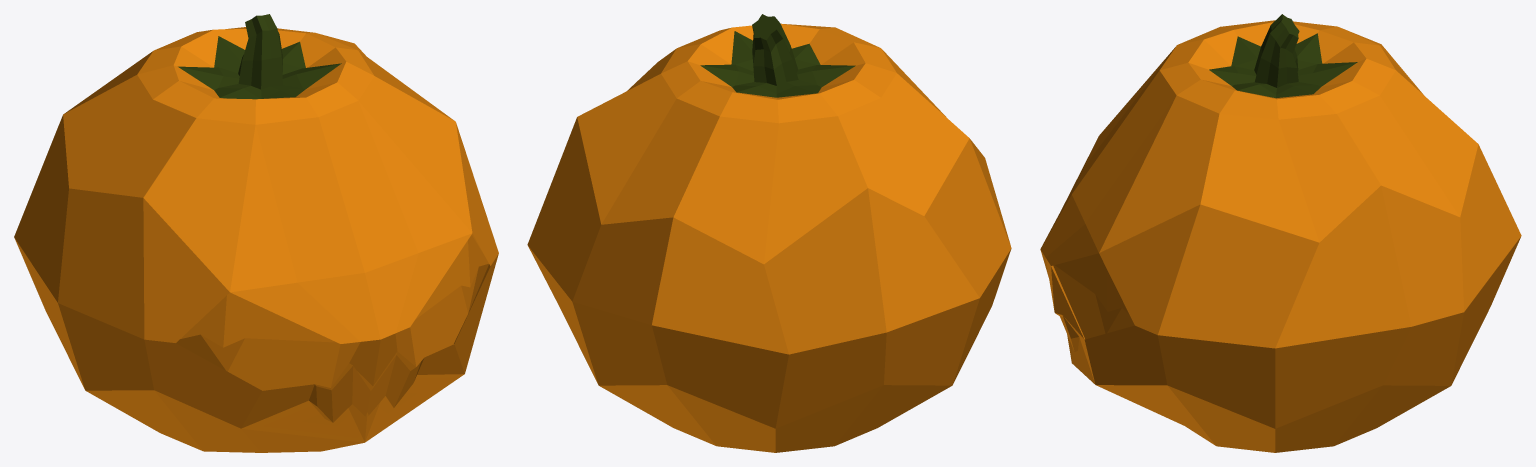
The model's file is pumpkin_field_b.glb.
The picture shows the model from 3 angles, left to right: view 1: azimuth 30°, elevation 25°; view 2: azimuth 150°, elevation 25°; view 3: azimuth 270°, elevation 25°; orthographic projection.
Parts seen in each view (by area): view 1: pumpkin_field_b; view 2: pumpkin_field_b; view 3: pumpkin_field_b.
Part boxes in pixels (box(x1,y1,x2,y2)): pumpkin_field_b: box(14, 14, 498, 452); pumpkin_field_b: box(527, 14, 1011, 452); pumpkin_field_b: box(1040, 14, 1521, 452).
Bounding box in the file's own units: 0.2 × 0.1824 × 0.2049.
1 material, 1 textured.
